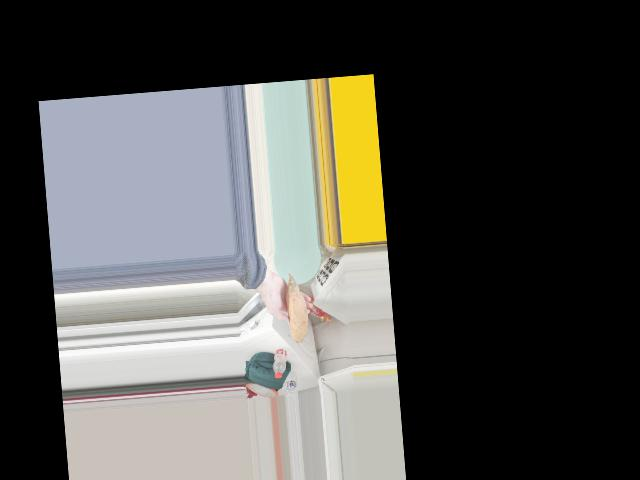sweet_potato: (281, 286, 309, 349)
